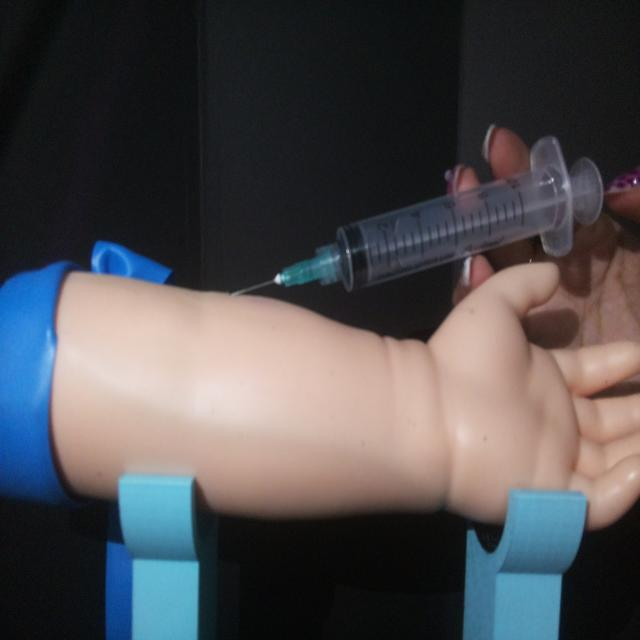24deg: (226, 132, 610, 303)
